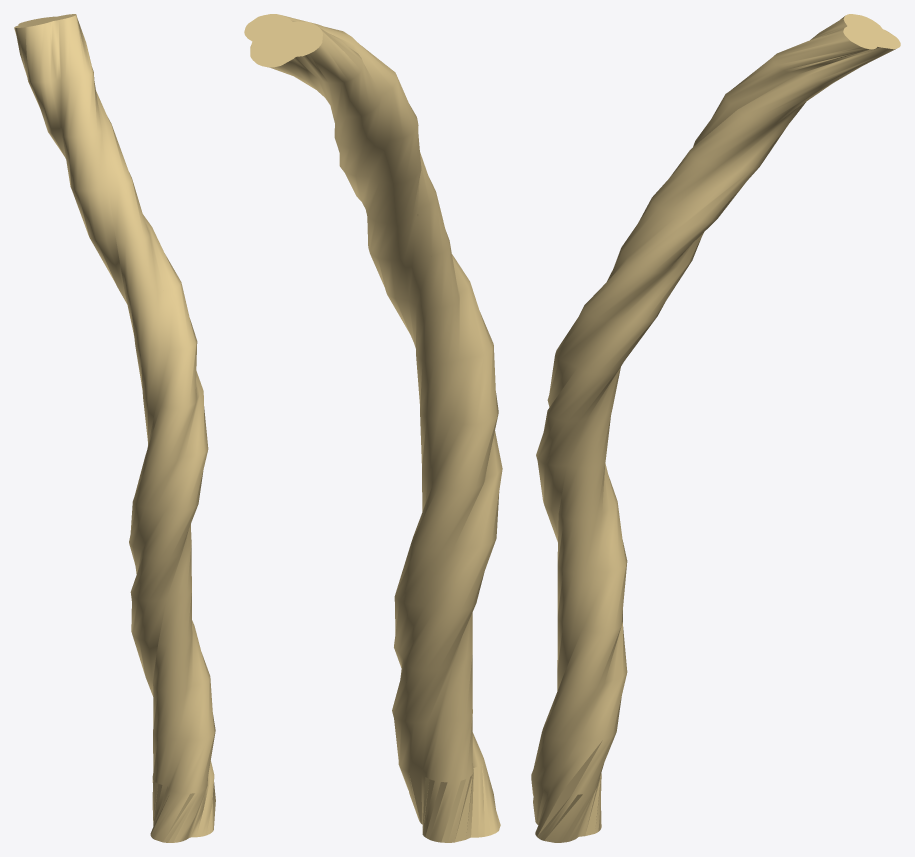
File: Bomb Wick.fbx
3 views of the same model, side by side, from view 1: azimuth 30°, elevation 25°; view 2: azimuth 150°, elevation 25°; view 3: azimuth 270°, elevation 25° (orthographic). The views are drawn at different scales.
Visible parts, largest first — view 1: BézierCircle.002; view 2: BézierCircle.002; view 3: BézierCircle.002.
Part boxes in pixels (left/top/right/bottom): BézierCircle.002: left=14, top=14, right=215, bottom=842; BézierCircle.002: left=244, top=14, right=502, bottom=842; BézierCircle.002: left=531, top=14, right=900, bottom=842.
Bounding box in the file's own units: 1.37 × 12.65 × 5.28.
Materials: 1 (1 with a texture image).
